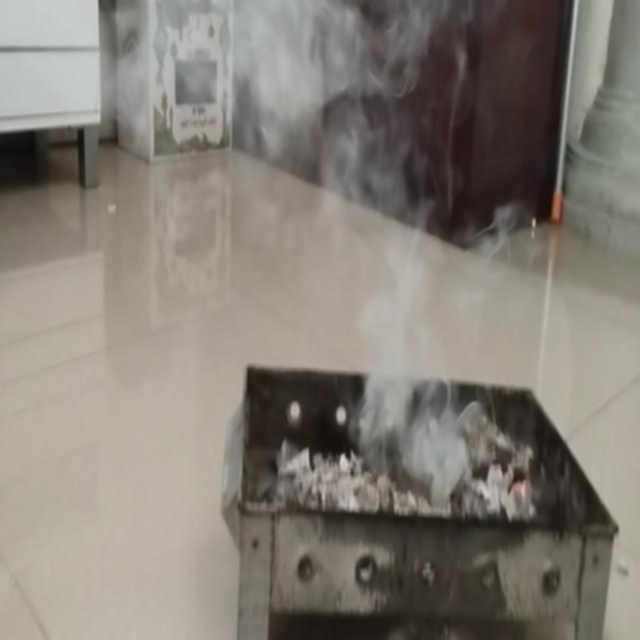smoke: (343, 1, 448, 446)
